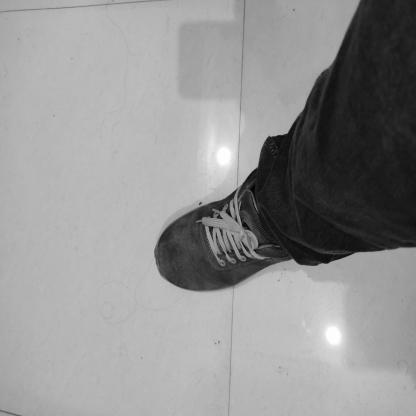ankle: (266, 238, 268, 241)
heel: (288, 258, 292, 262)
left_foot: (154, 167, 303, 294)
pinky: (200, 283, 203, 286)
toe: (172, 229, 176, 234)
